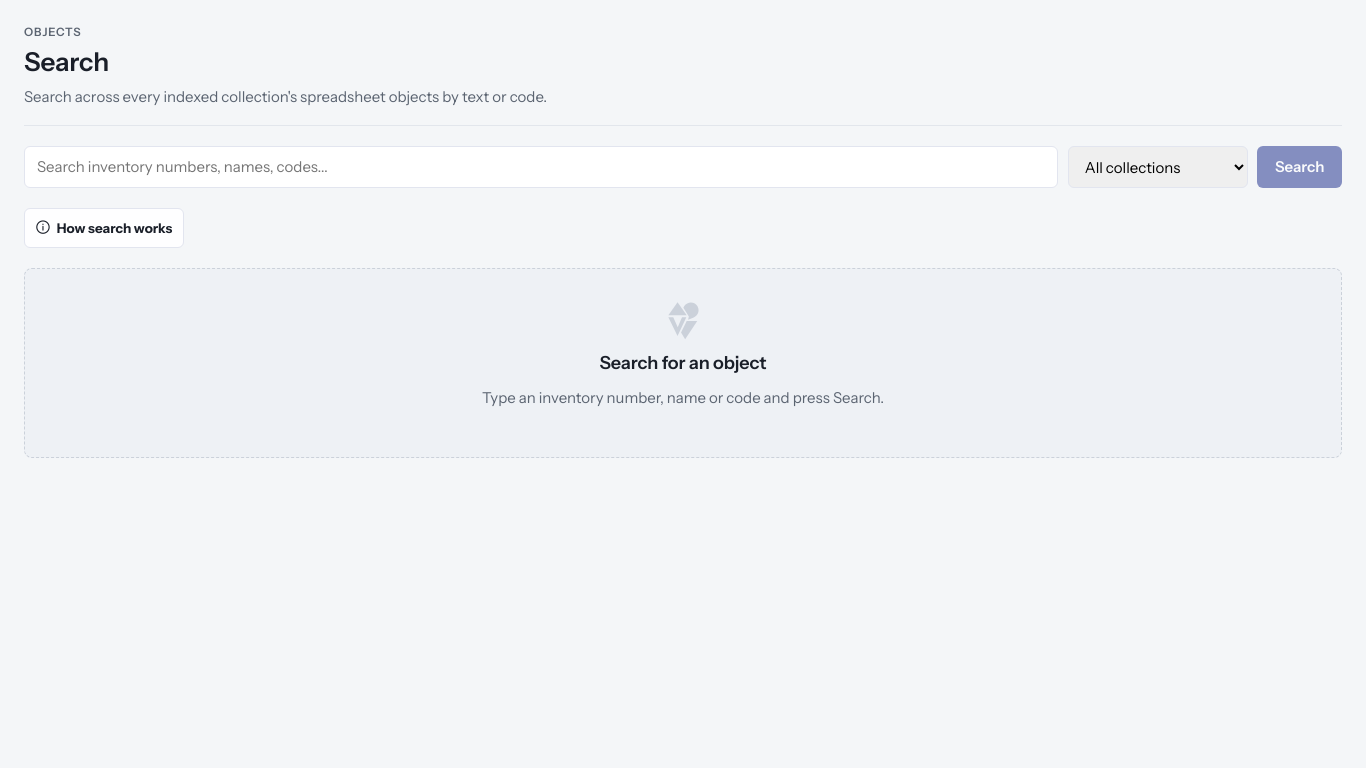
Test: ObjectSearchPageComponent › falls back when a result has no match reasons
In the search field with class "search-bar__input": (541,167) [24,146,1058,188], type "jaguar"
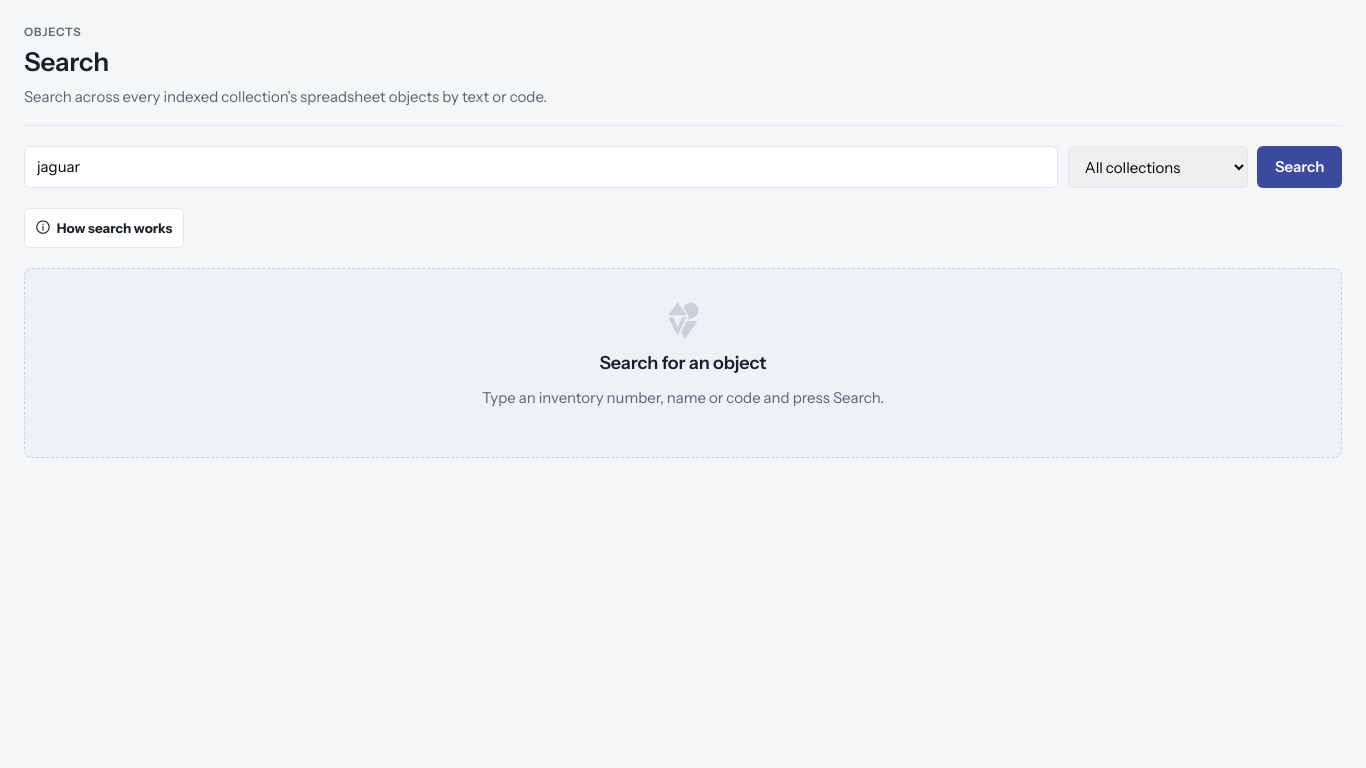
Click the button with class "search-bar__button": (1300,167) [1257,146,1342,188]
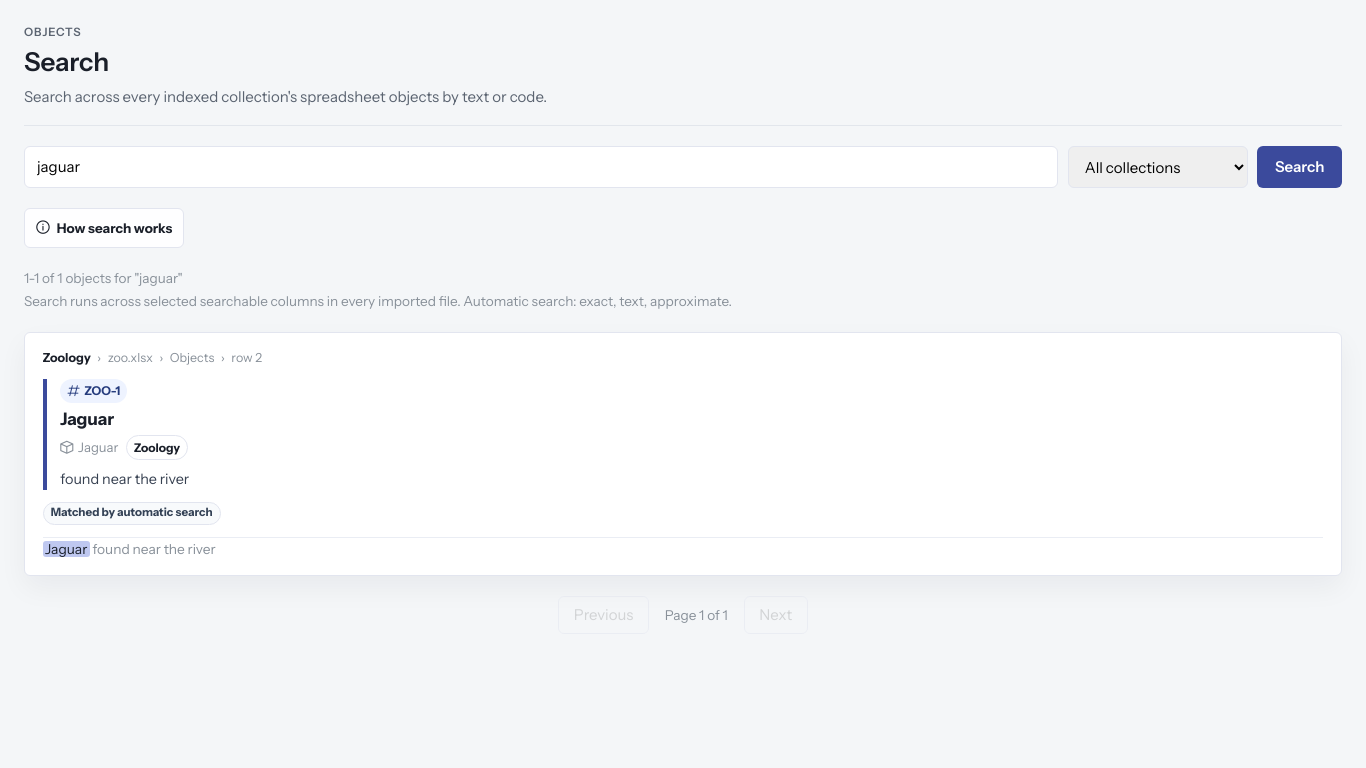
Now the text with class "result__match-badge" reads "Matched by automatic search", box [51,505,213,519]
